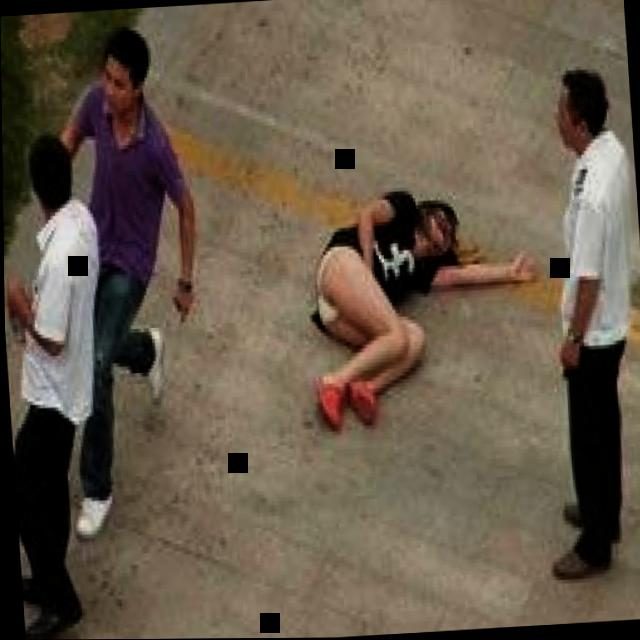Fall-Detected: (276, 155, 548, 434)
